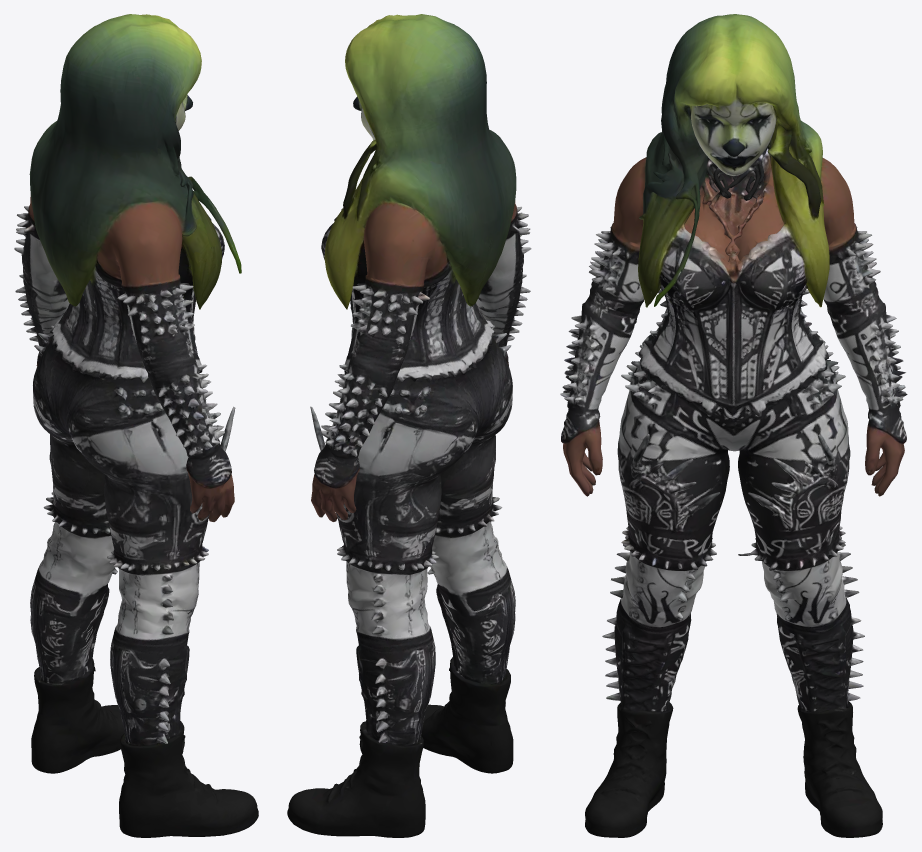
File: ONYX.glb
The picture shows the model from 3 angles, left to right: view 1: azimuth 30°, elevation 25°; view 2: azimuth 150°, elevation 25°; view 3: azimuth 270°, elevation 25°; orthographic projection. The views are drawn at different scales.
Parts seen in each view (by area): view 1: tripo_node_2554cf43-8f94-47bb-9ad2-9e1e0313dea4; view 2: tripo_node_2554cf43-8f94-47bb-9ad2-9e1e0313dea4; view 3: tripo_node_2554cf43-8f94-47bb-9ad2-9e1e0313dea4.
Boxes of the visible parts, x1,y1,x2,y2 form: tripo_node_2554cf43-8f94-47bb-9ad2-9e1e0313dea4: [14, 14, 258, 837]; tripo_node_2554cf43-8f94-47bb-9ad2-9e1e0313dea4: [287, 14, 531, 837]; tripo_node_2554cf43-8f94-47bb-9ad2-9e1e0313dea4: [560, 14, 907, 837].
Size of the model in its own units: 0.2132 by 1 by 0.3977.
1 material, 1 textured.
